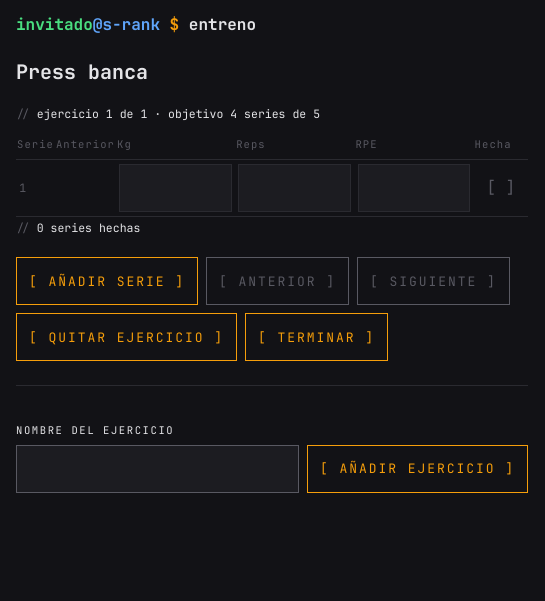
it: el avance se dice con palabras, no solo con la barra
The width and height of the screenshot is (545, 601).
Click the button named "Serie 1, pendiente".
click(501, 188)  # box x1=477 y1=164 x2=525 y2=212
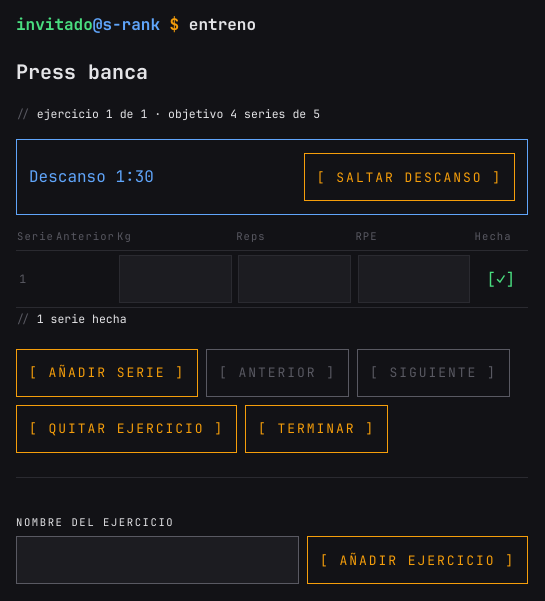
Now the text "1 serie hecha" is shown, box x1=37 y1=312 x2=126 y2=326
